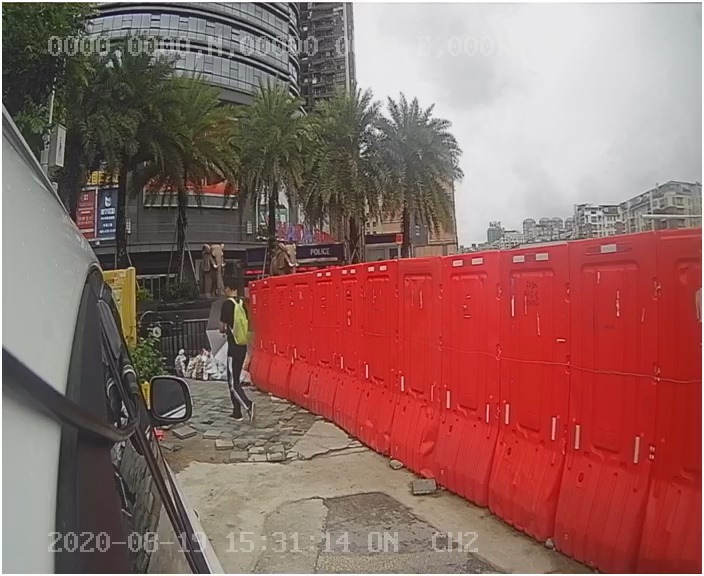person: (205, 282, 270, 422)
